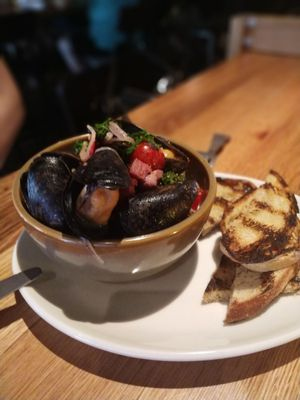sandwich: (0, 266, 42, 308)
sushi: (8, 115, 218, 282)
